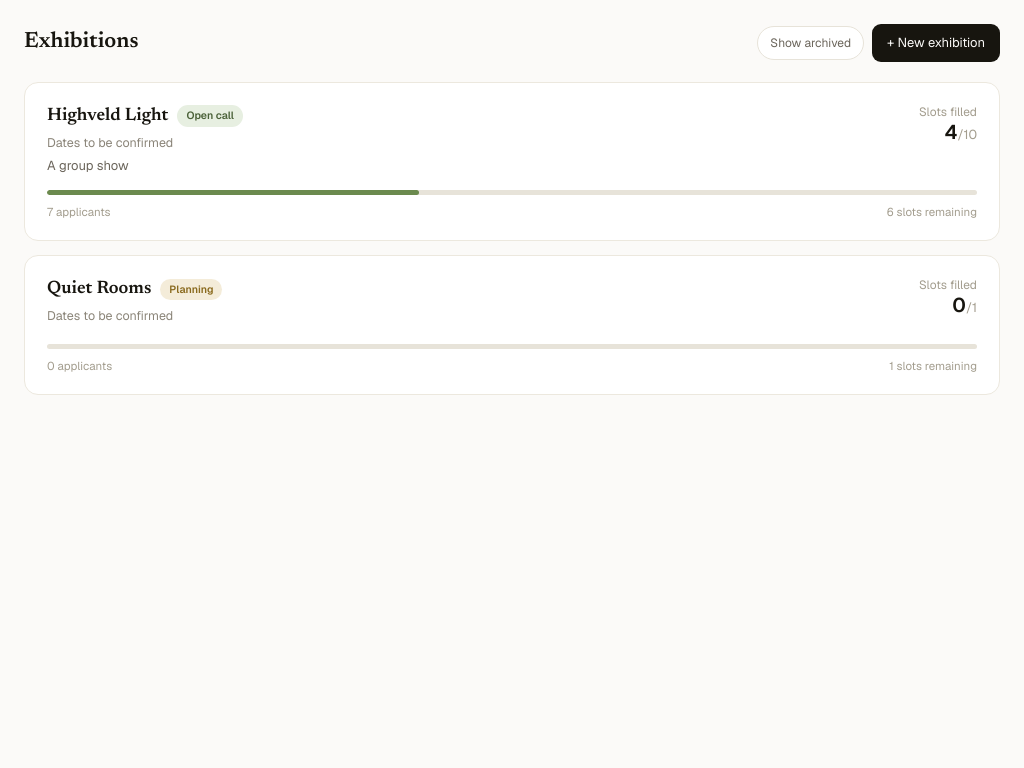
Test: ExhibitionsPanel list › hides archived exhibitions until asked
Click the button "Show archived" at (811, 43), box [757,26,864,60]
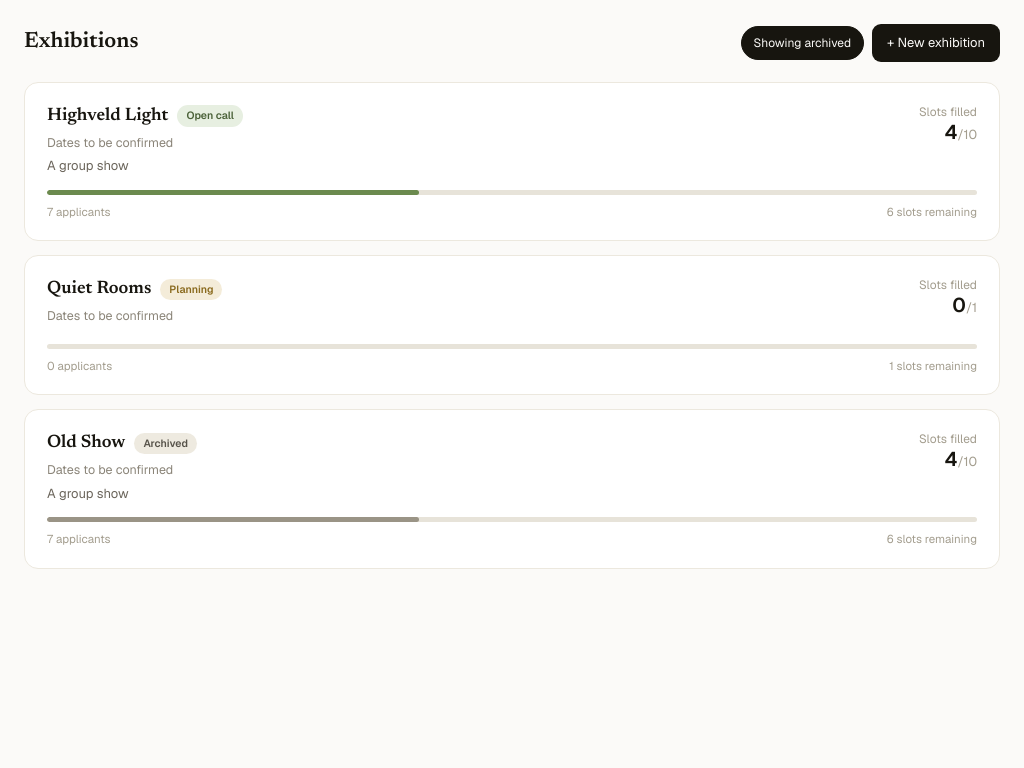
Check: the button "Showing archived" is shown, box [740,26,864,60]
